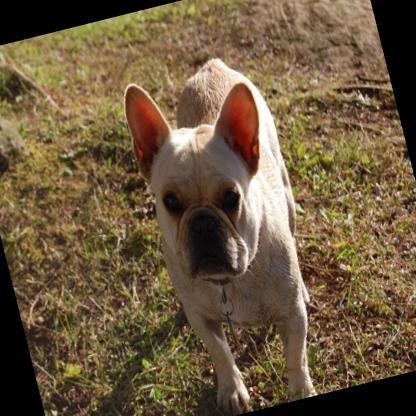French_bulldog: (114, 45, 342, 416)
